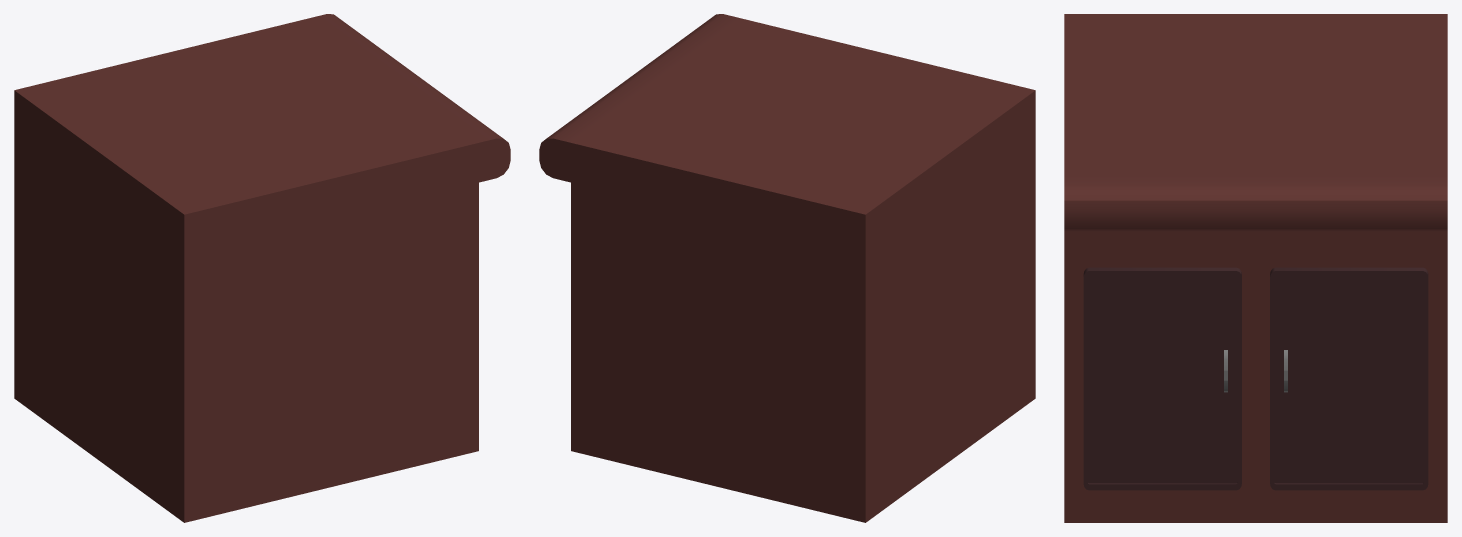
The model's file is Kitchen_counter.fbx.
3 renders of one model, left to right at view 1: azimuth 30°, elevation 25°; view 2: azimuth 150°, elevation 25°; view 3: azimuth 270°, elevation 25°, orthographic. The views are drawn at different scales.
Visible parts, largest first — view 1: Cube; view 2: Cube; view 3: Cube, Cube.001.
Part boxes in pixels (bbox=[...]): Cube: bbox=[14, 14, 510, 522]; Cube: bbox=[539, 14, 1035, 522]; Cube: bbox=[1064, 14, 1447, 522]; Cube.001: bbox=[1083, 267, 1428, 490].
Size of the model in its own units: 222 by 200 by 200.
